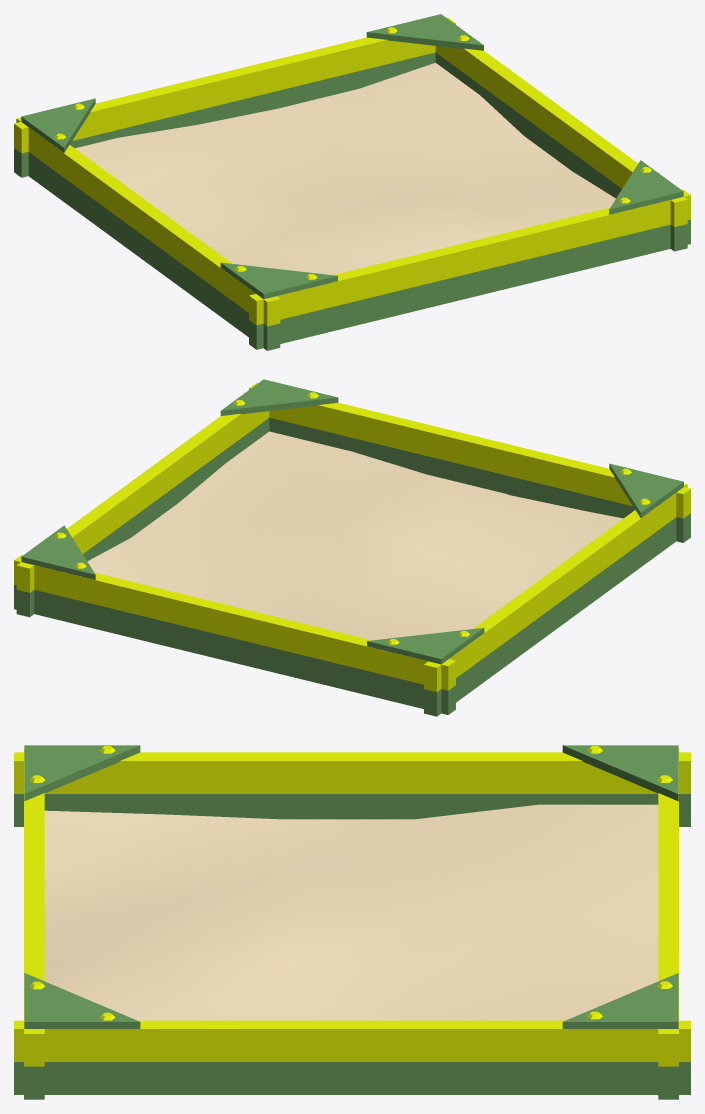
File: SM_Sandbox_01.fbx
3 views of the same model, one above another, from view 1: azimuth 30°, elevation 25°; view 2: azimuth 150°, elevation 25°; view 3: azimuth 270°, elevation 25° (orthographic). The views are drawn at different scales.
Visible parts, largest first — view 1: SM_Sandbox_01; view 2: SM_Sandbox_01; view 3: SM_Sandbox_01.
Part boxes in pixels (<box>): SM_Sandbox_01: <box>14,14,690,350</box>; SM_Sandbox_01: <box>14,379,690,716</box>; SM_Sandbox_01: <box>14,745,690,1099</box>.
Bounding box in the file's own units: 331 × 40.95 × 331.
